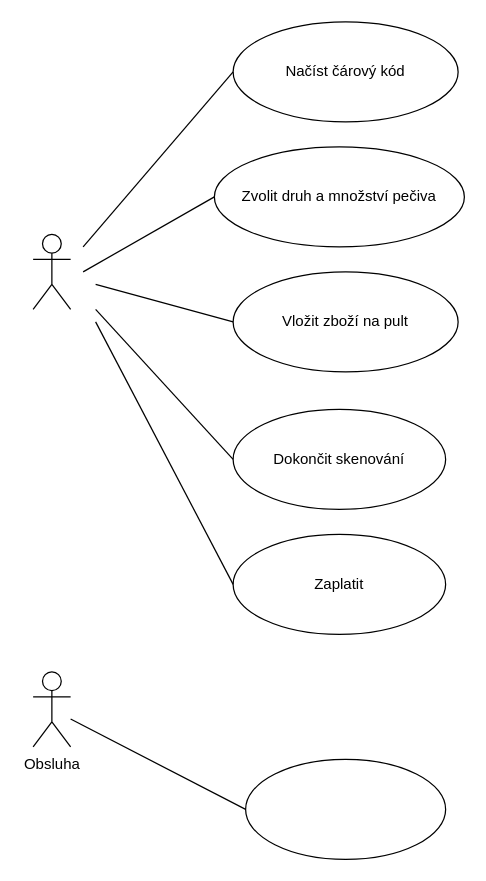
Some shapes in this 486 by 881 pixel diagram are drawn without their labels. Each missing label, with the box of its shape:
Potvrdit nákup alkoholu: (244, 758, 446, 859)
Zákazník: (32, 233, 71, 309)
